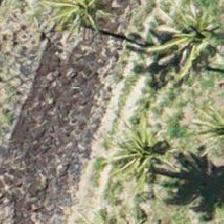coconut_tree: (83, 109, 173, 199), (135, 0, 223, 90), (44, 0, 134, 52)
